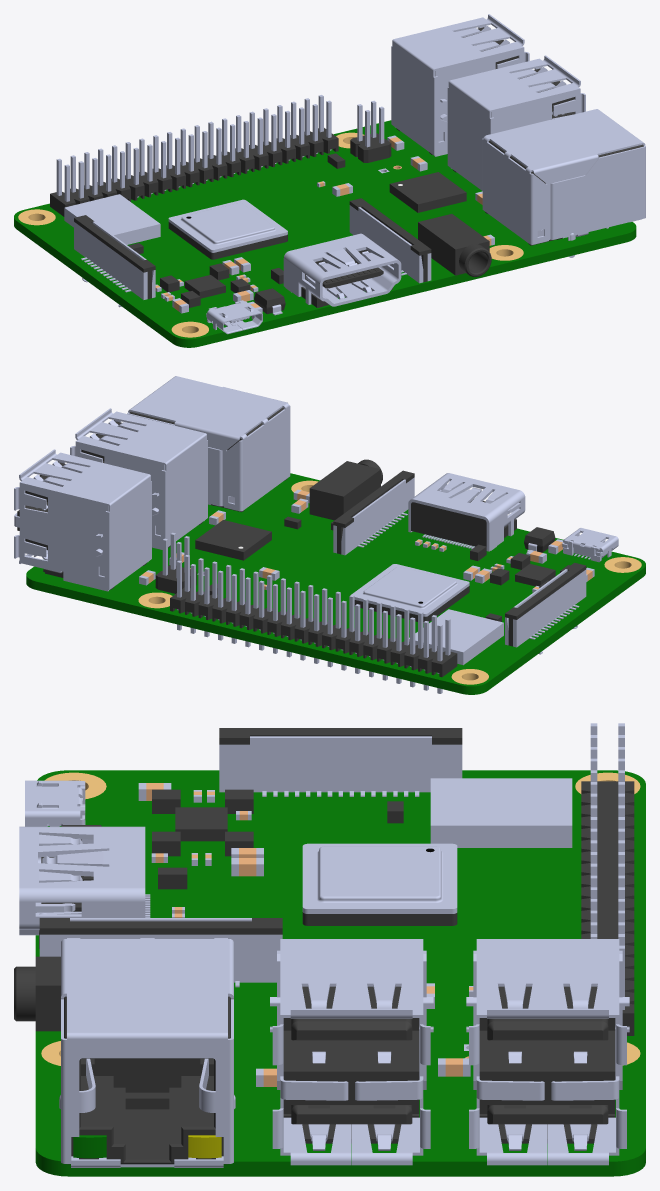
The model's file is raspberry-pi-3-model-b.glb.
The picture shows the model from 3 angles, top to bottom: view 1: azimuth 30°, elevation 25°; view 2: azimuth 150°, elevation 25°; view 3: azimuth 270°, elevation 25°; orthographic projection. The views are drawn at different scales.
Visible parts, largest first — view 1: RASPBERRY PI 3 MODEL B+; view 2: RASPBERRY PI 3 MODEL B+; view 3: RASPBERRY PI 3 MODEL B+.
Part boxes in pixels (x1,y1,x2,y2): RASPBERRY PI 3 MODEL B+: [14, 14, 645, 347]; RASPBERRY PI 3 MODEL B+: [14, 376, 645, 694]; RASPBERRY PI 3 MODEL B+: [14, 723, 645, 1176].
Size of the model in its own units: 0.0878 by 0.0198 by 0.058.
